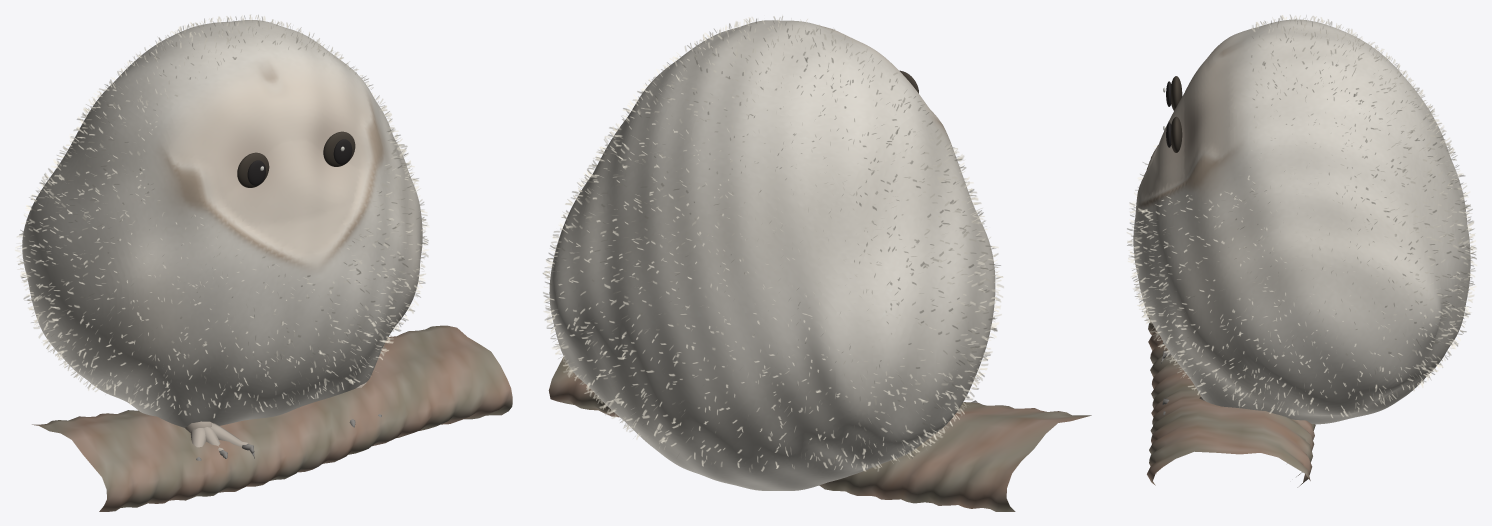
Rendered from owl172_run92_new_sculpt_soft_tuft_REJECTED.glb.
3 views of the same model, side by side, from view 1: azimuth 30°, elevation 25°; view 2: azimuth 150°, elevation 25°; view 3: azimuth 270°, elevation 25° (orthographic). The views are drawn at different scales.
Parts seen in each view (by area): view 1: ORGANIC_CONNECTED_HEAD_BODY_HEART_RELIEF, TEMPORARY_BARK_SUPPORT_RESEARCH_ONLY, soft_alpha_mesoptile_research_groom, eye_gloss_dark_-1, eye_gloss_dark_1; view 2: ORGANIC_CONNECTED_HEAD_BODY_HEART_RELIEF, soft_alpha_mesoptile_research_groom, TEMPORARY_BARK_SUPPORT_RESEARCH_ONLY; view 3: ORGANIC_CONNECTED_HEAD_BODY_HEART_RELIEF, soft_alpha_mesoptile_research_groom, TEMPORARY_BARK_SUPPORT_RESEARCH_ONLY.
Part boxes in pixels (x1,y1,x2,y2): ORGANIC_CONNECTED_HEAD_BODY_HEART_RELIEF: (22, 20, 422, 427); TEMPORARY_BARK_SUPPORT_RESEARCH_ONLY: (32, 325, 512, 511); soft_alpha_mesoptile_research_groom: (15, 14, 429, 417); eye_gloss_dark_-1: (237, 152, 269, 187); eye_gloss_dark_1: (323, 131, 355, 166); ORGANIC_CONNECTED_HEAD_BODY_HEART_RELIEF: (549, 20, 995, 490); soft_alpha_mesoptile_research_groom: (542, 15, 1003, 471); TEMPORARY_BARK_SUPPORT_RESEARCH_ONLY: (548, 357, 1091, 511); ORGANIC_CONNECTED_HEAD_BODY_HEART_RELIEF: (1133, 19, 1470, 424); soft_alpha_mesoptile_research_groom: (1126, 14, 1476, 417); TEMPORARY_BARK_SUPPORT_RESEARCH_ONLY: (1146, 311, 1315, 487).
Bounding box in the file's own units: 1.3 × 1.27 × 1.
2 materials, 1 textured.
